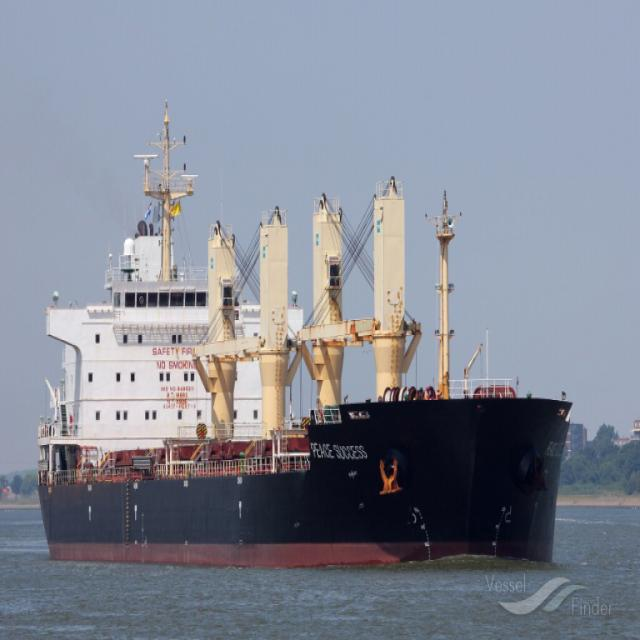OCR: (303, 432, 368, 470)
